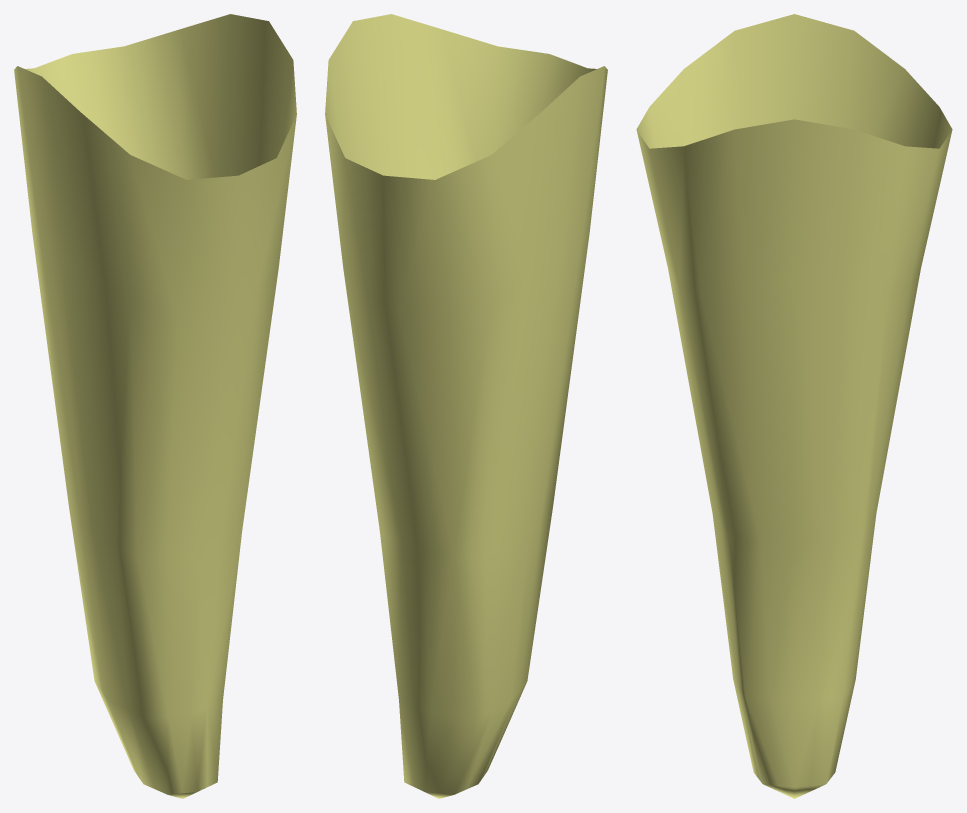
Rendered from D33R_Raiz.obj.
3 views of the same model, side by side, from view 1: azimuth 30°, elevation 25°; view 2: azimuth 150°, elevation 25°; view 3: azimuth 270°, elevation 25° (orthographic). The views are drawn at different scales.
Visible parts, largest first — view 1: D33R_Raiz; view 2: D33R_Raiz; view 3: D33R_Raiz.
Boxes of the visible parts, bbox=[...] form: D33R_Raiz: bbox=[14, 14, 296, 798]; D33R_Raiz: bbox=[325, 14, 607, 798]; D33R_Raiz: bbox=[636, 14, 952, 798].
Size of the model in its own units: 5.51 by 17.55 by 6.98.
